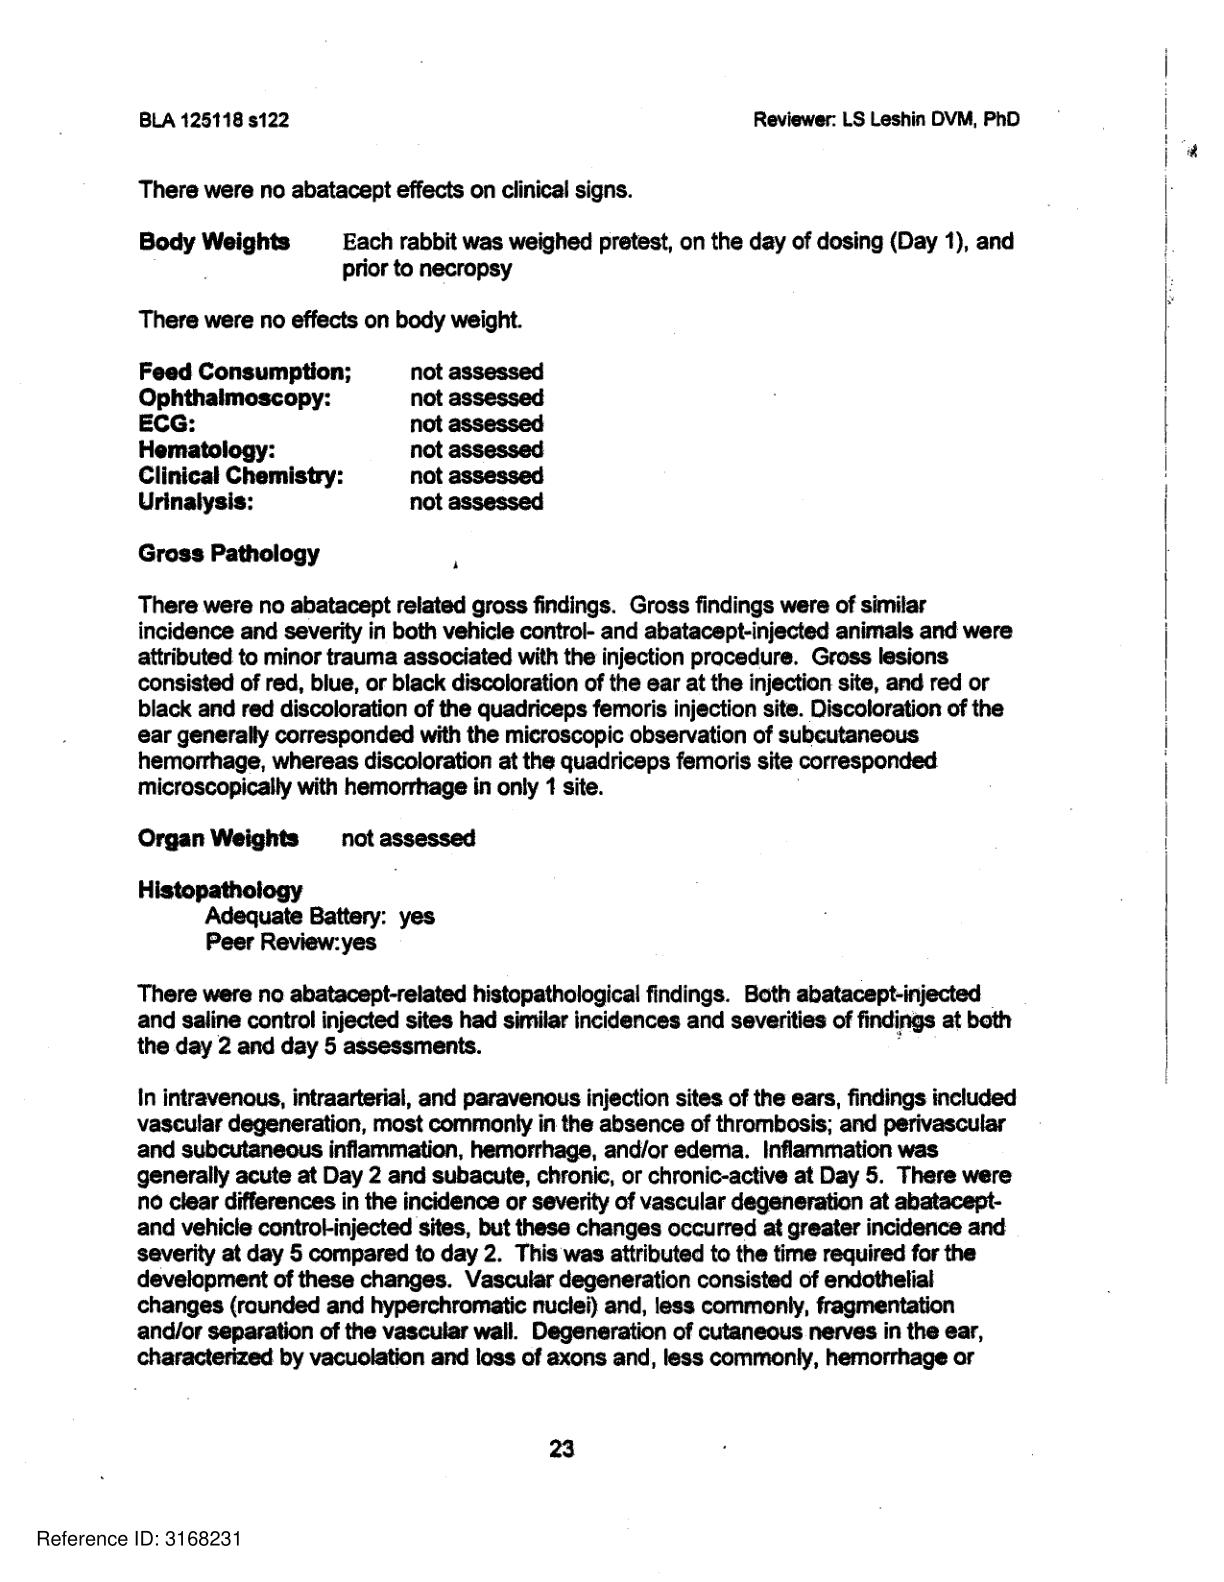nolines: (136, 356, 548, 520)
